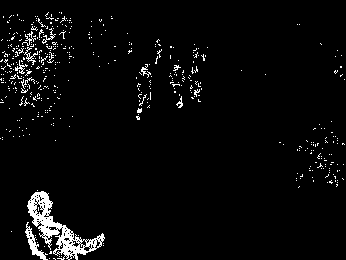person: (25, 189, 104, 260), (134, 63, 153, 122), (170, 61, 186, 109)
